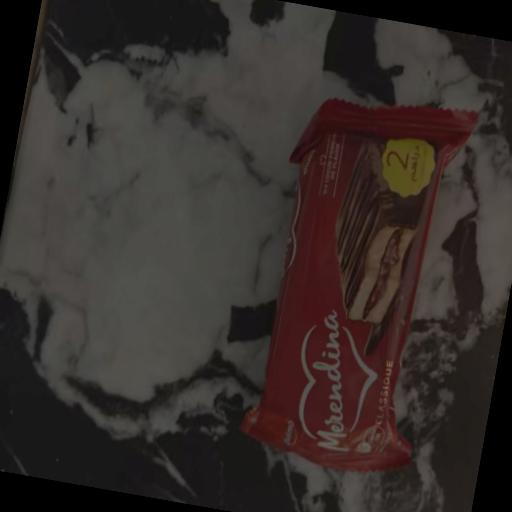merendina: (220, 66, 500, 512)
